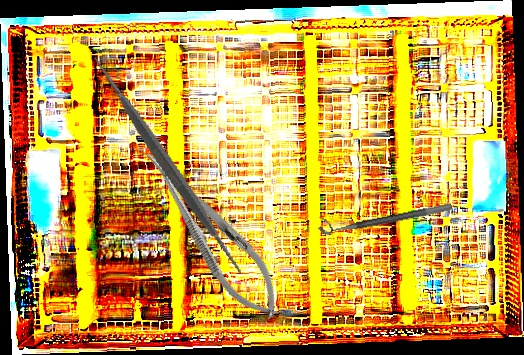Fixation Ring: (316, 192, 453, 237)
Needle Holder: (130, 136, 295, 331)
Spatula Surgical: (44, 42, 292, 287)
